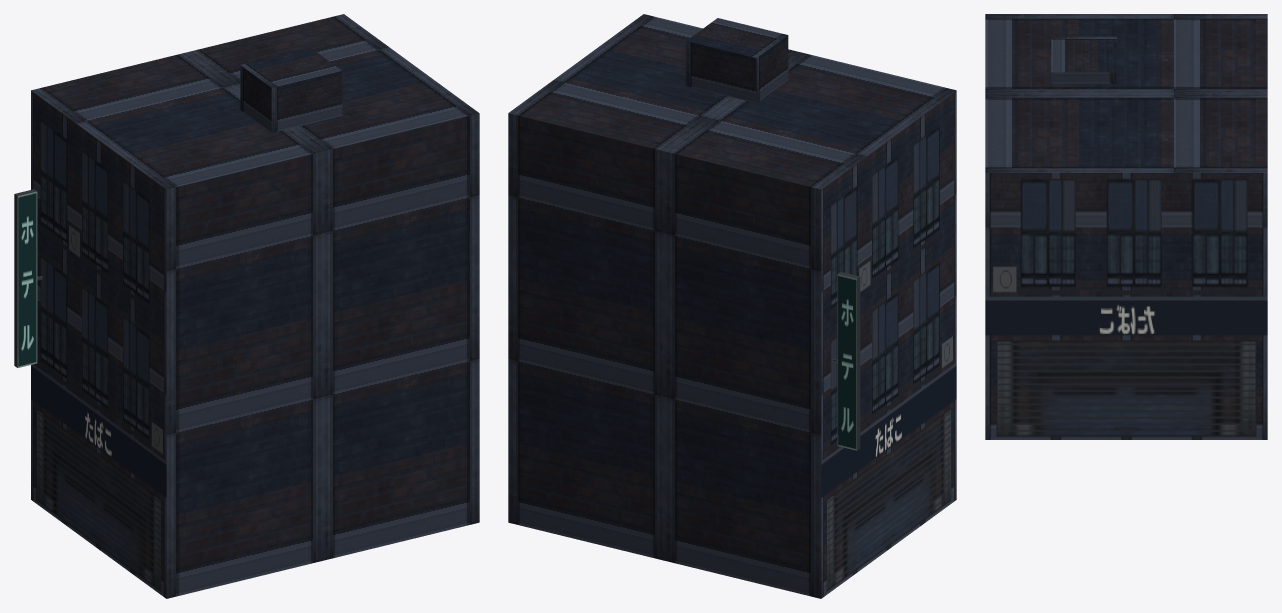
The model's file is street_shop_1.glb.
3 views of the same model, side by side, from view 1: azimuth 30°, elevation 25°; view 2: azimuth 150°, elevation 25°; view 3: azimuth 270°, elevation 25° (orthographic). The views are drawn at different scales.
Parts seen in each view (by area): view 1: street_shop_1; view 2: street_shop_1; view 3: street_shop_1.
Boxes of the visible parts, x1,y1,x2,y2 form: street_shop_1: [14, 14, 479, 598]; street_shop_1: [508, 14, 956, 598]; street_shop_1: [985, 14, 1267, 439].
Bounding box in the file's own units: 8.67 × 11.1 × 6.
Materials: 4 (4 with a texture image).
